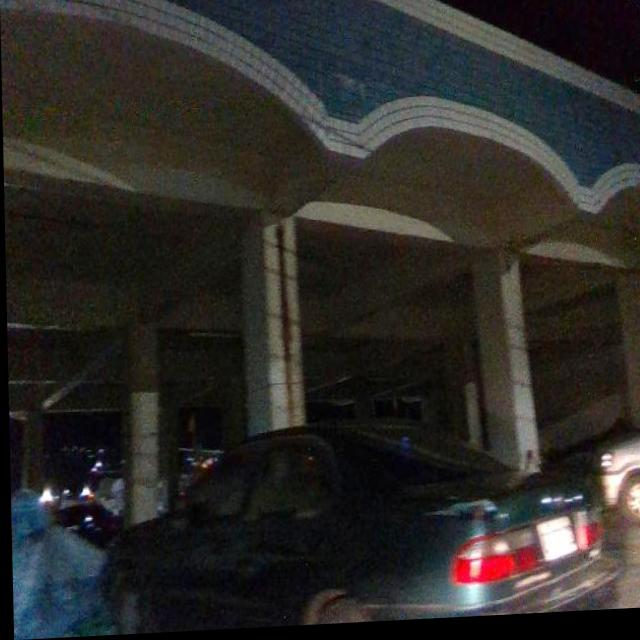pollute: (9, 484, 115, 640)
